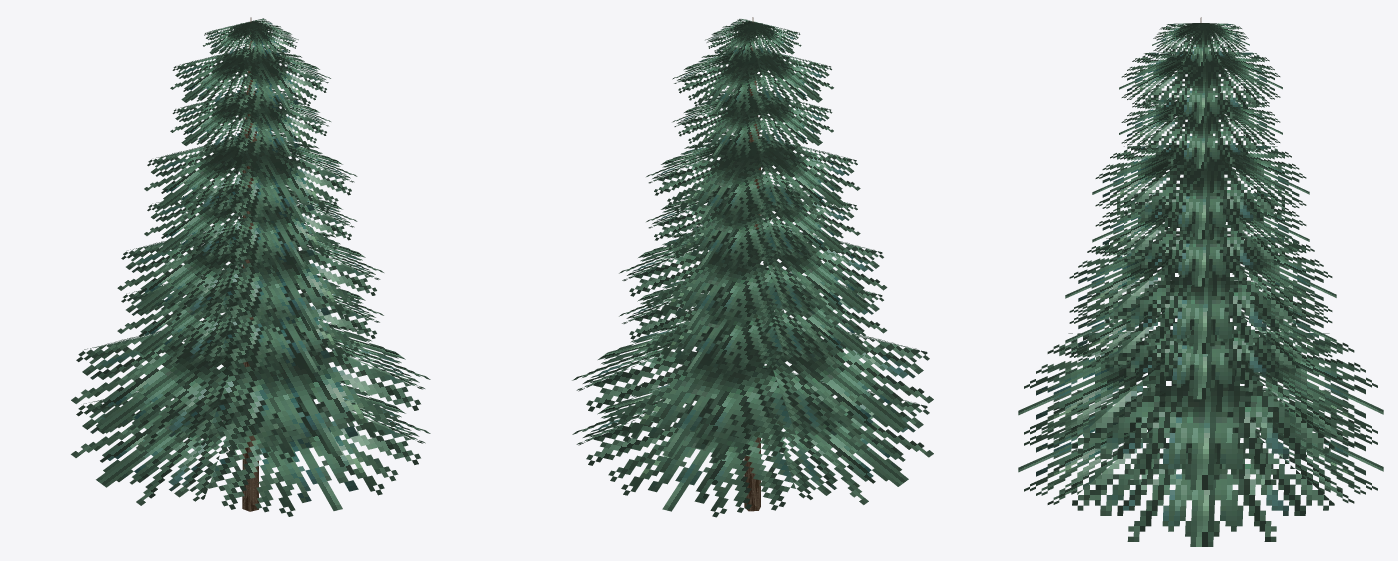
Rendered from tree.glb.
The picture shows the model from 3 angles, left to right: view 1: azimuth 30°, elevation 25°; view 2: azimuth 150°, elevation 25°; view 3: azimuth 270°, elevation 25°; orthographic projection. The views are drawn at different scales.
Parts seen in each view (by area): view 1: Plane_0; view 2: Plane_0; view 3: Plane_0.
Boxes of the visible parts, left/top/right/bottom form: Plane_0: left=71, top=17, right=430, bottom=516; Plane_0: left=572, top=17, right=933, bottom=517; Plane_0: left=1018, top=17, right=1383, bottom=546.
Size of the model in its own units: 11.76 by 18.48 by 11.76.
2 materials, 2 textured.
